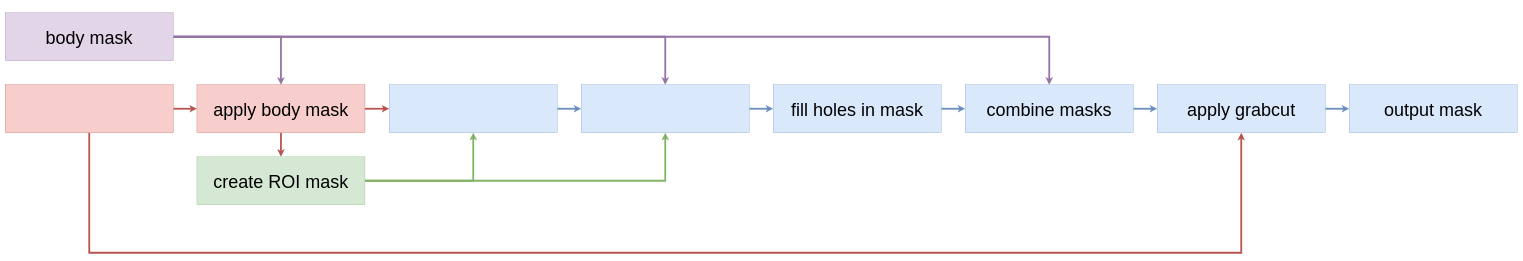
This 1523x261 diagram has some shape labels left out. The centre of each missing label's shape, as x and y in pixels:
"extract mask" goes at (473,108).
"input image" goes at (89,108).
"recheck mask" goes at (665,108).
